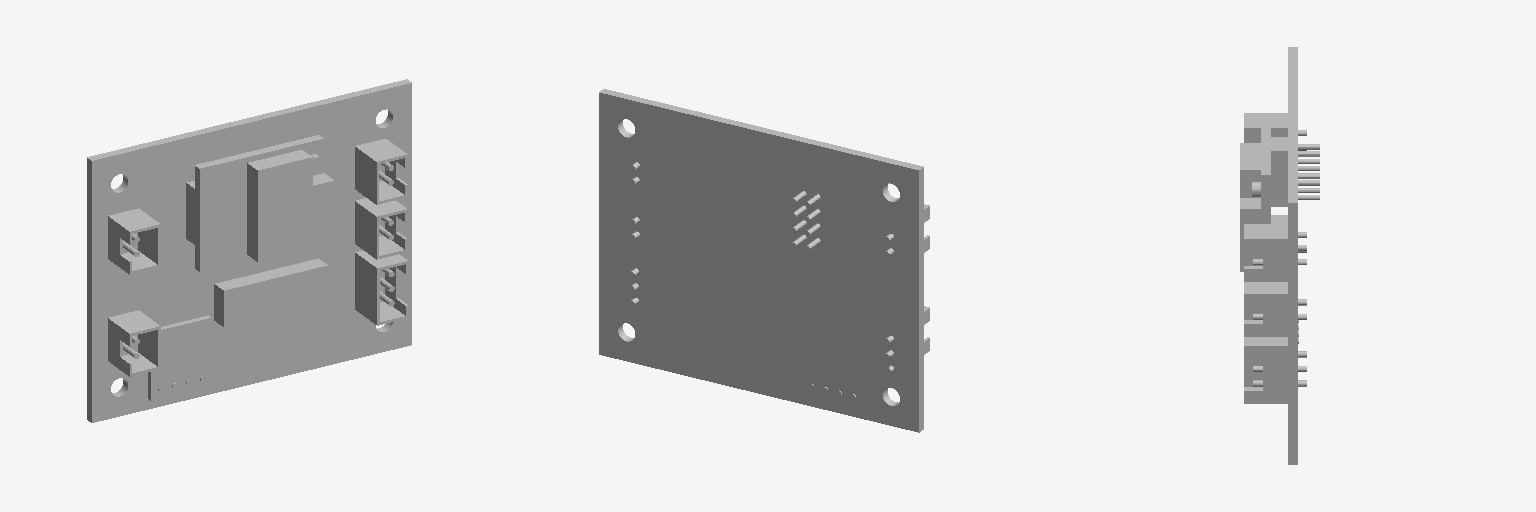
Rendered from MLA30 v1.1.obj.
3 views of the same model, side by side, from view 1: azimuth 30°, elevation 25°; view 2: azimuth 150°, elevation 25°; view 3: azimuth 270°, elevation 25° (orthographic).
Parts seen in each view (by area): view 1: Body3, SX11278, PCB, Body4, Body1, Body1:5, Body1:2, Body1:1, Body1:3, Body1:4, connecteur; view 2: Body3; view 3: Body3, Body1:5, Body1:3, Body1:4, SX11278, connecteur, PCB, Body1:1.
Part boxes in pixels (x1,y1,x2,y2): Body3: (87,79,411,422); SX11278: (247,150,333,261); PCB: (195,135,323,271); Body4: (214,258,327,326); Body1: (148,315,211,400); Body1:5: (355,251,407,325); Body1:2: (108,310,160,376); Body1:1: (108,208,160,274); Body1:3: (355,139,407,204); Body1:4: (355,198,407,259); connecteur: (186,181,194,244); Body3: (599,89,923,432); Body3: (1288,47,1297,464); Body1:5: (1244,337,1287,403); Body1:3: (1244,224,1287,281); Body1:4: (1244,282,1287,336); SX11278: (1240,143,1270,271); connecteur: (1271,137,1287,206); PCB: (1261,114,1270,223); Body1:1: (1244,113,1287,142).
Bounding box in the file's own units: 58.42 × 45.72 × 12.5.